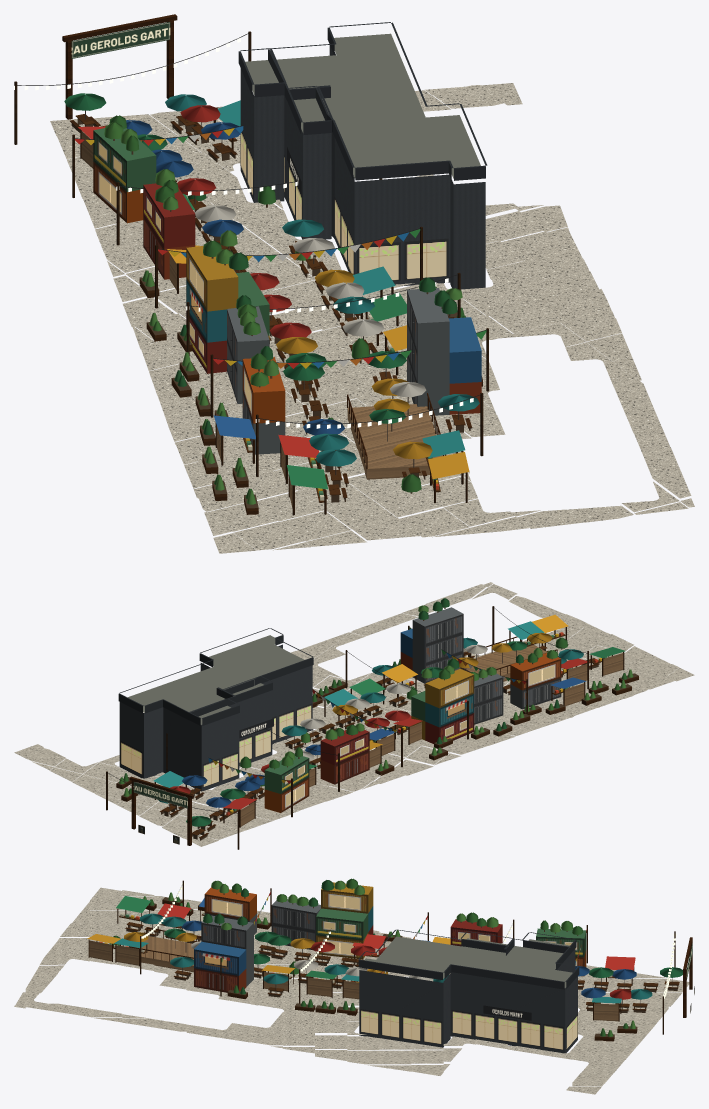
File: frau_gerolds_garten.glb
3 renders of one model, top to bottom at view 1: azimuth 30°, elevation 25°; view 2: azimuth 150°, elevation 25°; view 3: azimuth 270°, elevation 25°, orthographic. The views are drawn at different scales.
Visible parts, largest first — view 1: frau_gerolds_garten; view 2: frau_gerolds_garten; view 3: frau_gerolds_garten.
Boxes of the visible parts, x1,y1,x2,y2 form: frau_gerolds_garten: (14,14,694,553); frau_gerolds_garten: (14,582,694,849); frau_gerolds_garten: (14,878,694,1094).
Size of the model in its own units: 61.16 by 10.48 by 84.75.
8 materials, 8 textured.
